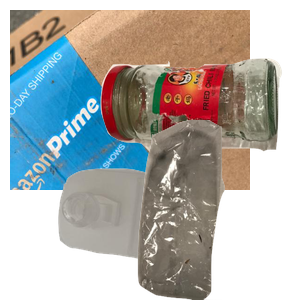cardboard: (10, 10, 250, 190)
glass: (98, 56, 300, 201)
plastic: (56, 166, 241, 300)
trash: (114, 120, 300, 300)
